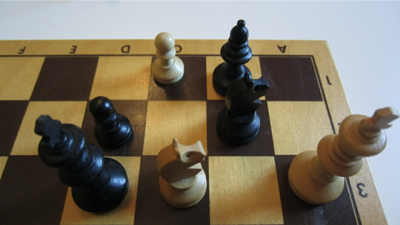black-bishop: (212, 20, 255, 98)
black-king: (34, 115, 129, 215)
black-knight: (216, 71, 271, 146)
black-pawn: (88, 96, 134, 150)
white-king: (287, 106, 400, 206)
white-knight: (157, 138, 208, 210)
white-pawn: (151, 32, 185, 85)
